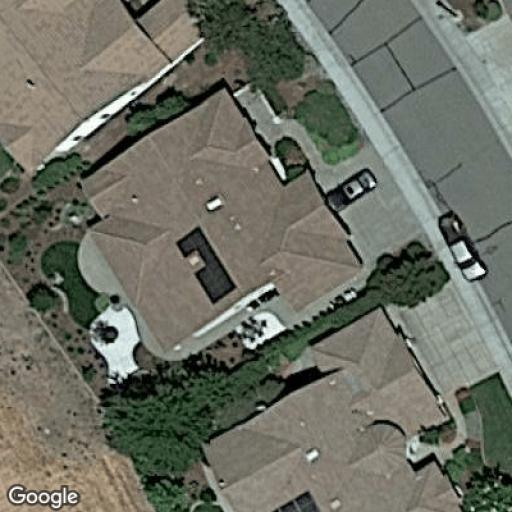solar-panel: (173, 223, 239, 307), (264, 488, 321, 512)
